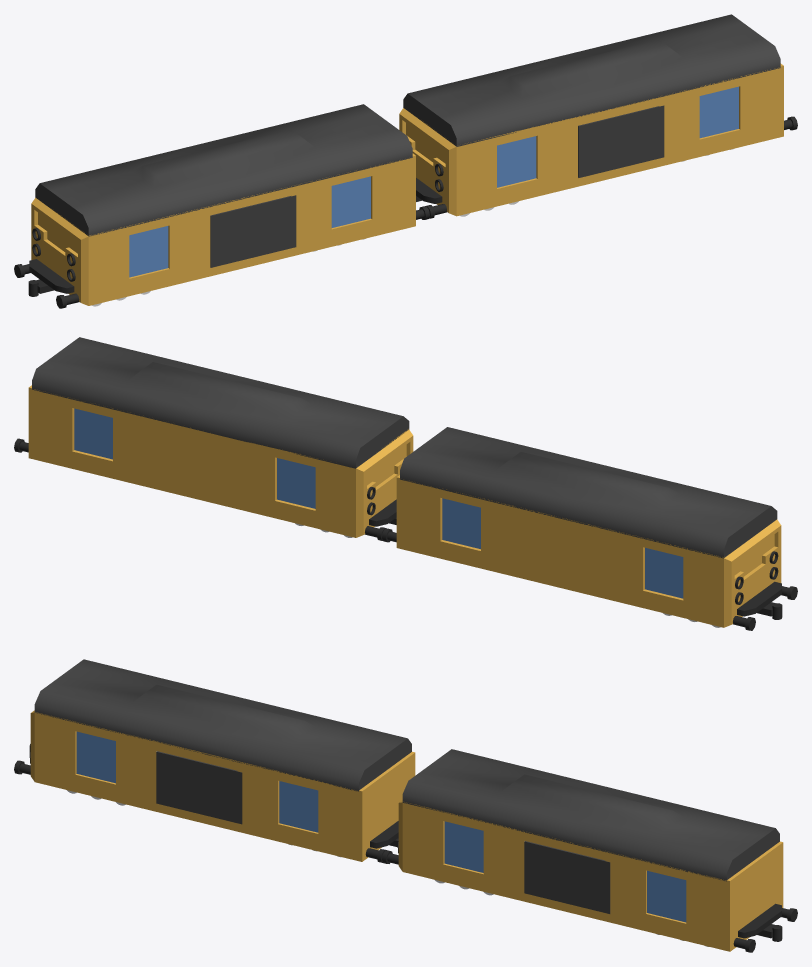
The model's file is Subway.fbx.
3 views of the same model, one above another, from view 1: azimuth 30°, elevation 25°; view 2: azimuth 150°, elevation 25°; view 3: azimuth 330°, elevation 25° (orthographic).
Visible parts, largest first — view 1: Würfel_1_2, Würfel_1, Würfel_2_3, Würfel, Würfel_9, Würfel_10_2, Würfel_9_2, Würfel_10, Zylinder_2, Würfel_4; view 2: Würfel_2_3, Würfel, Würfel_1_2, Würfel_1, Zylinder_2, Würfel_4; view 3: Würfel, Würfel_1, Würfel_1_2, Würfel_2_3, Würfel_10, Würfel_10_2, Würfel_9, Würfel_9_2, Null_1, Zylinder.
Part boxes in pixels (x1,y1,x2,y2): Würfel_1_2: (35,104,412,236); Würfel_1: (403,14,780,146); Würfel_2_3: (31,153,415,305); Würfel: (399,63,783,216); Würfel_9: (578,115,621,177); Würfel_10_2: (253,195,296,257); Würfel_9_2: (210,205,253,267); Würfel_10: (621,105,664,167); Zylinder_2: (14,259,79,308); Würfel_4: (416,178,446,218); Würfel_2_3: (396,475,781,627); Würfel: (28,385,413,537); Würfel_1_2: (400,427,777,558); Würfel_1: (32,337,409,468); Zylinder_2: (733,581,797,630); Würfel_4: (364,499,396,540); Würfel: (398,800,783,951); Würfel_1: (402,749,779,881); Würfel_1_2: (34,659,411,791); Würfel_2_3: (30,710,415,861); Würfel_10: (566,851,610,913); Würfel_10_2: (199,761,242,824); Würfel_9: (524,841,567,903); Würfel_9_2: (156,751,199,813); Null_1: (733,903,797,952); Zylinder: (365,821,398,862).
Bounding box in the file's own units: 2308 × 324 × 284.
